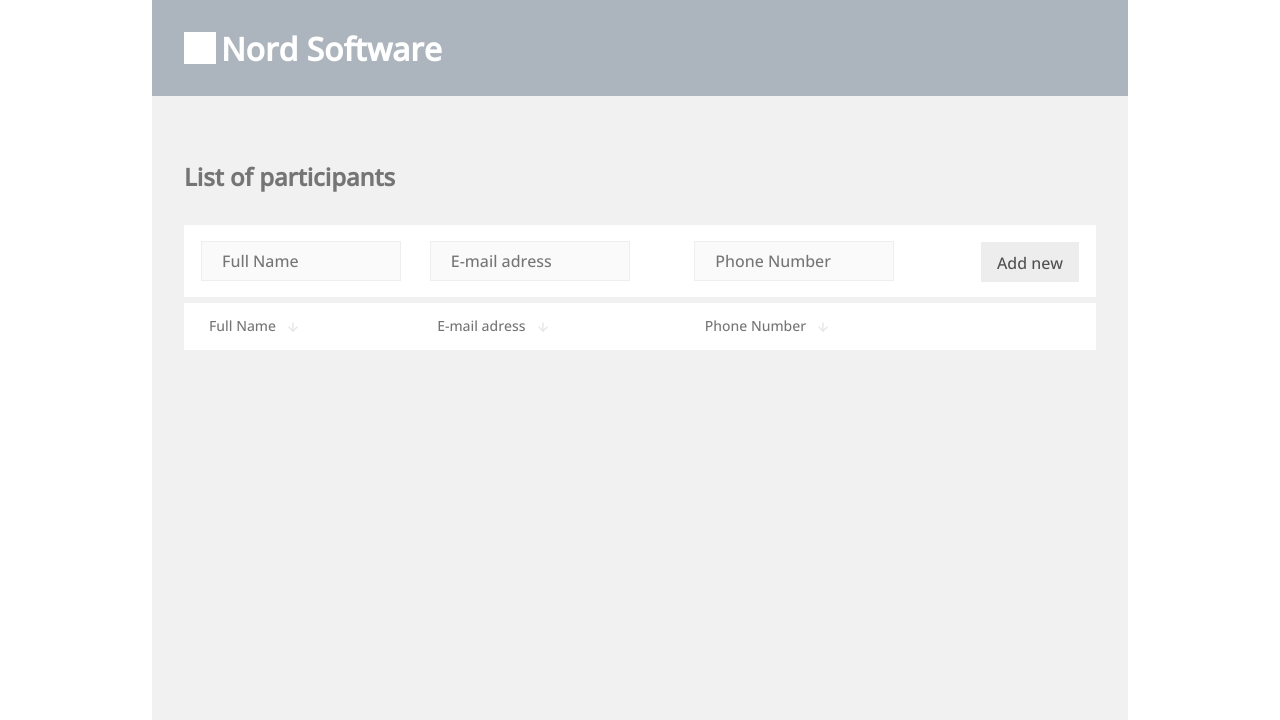
Participant app › can create a new participant
This screenshot has width=1280, height=720.
Step 1. Type "Apple" into the field named "name" → (301, 261), box [201, 241, 401, 281]
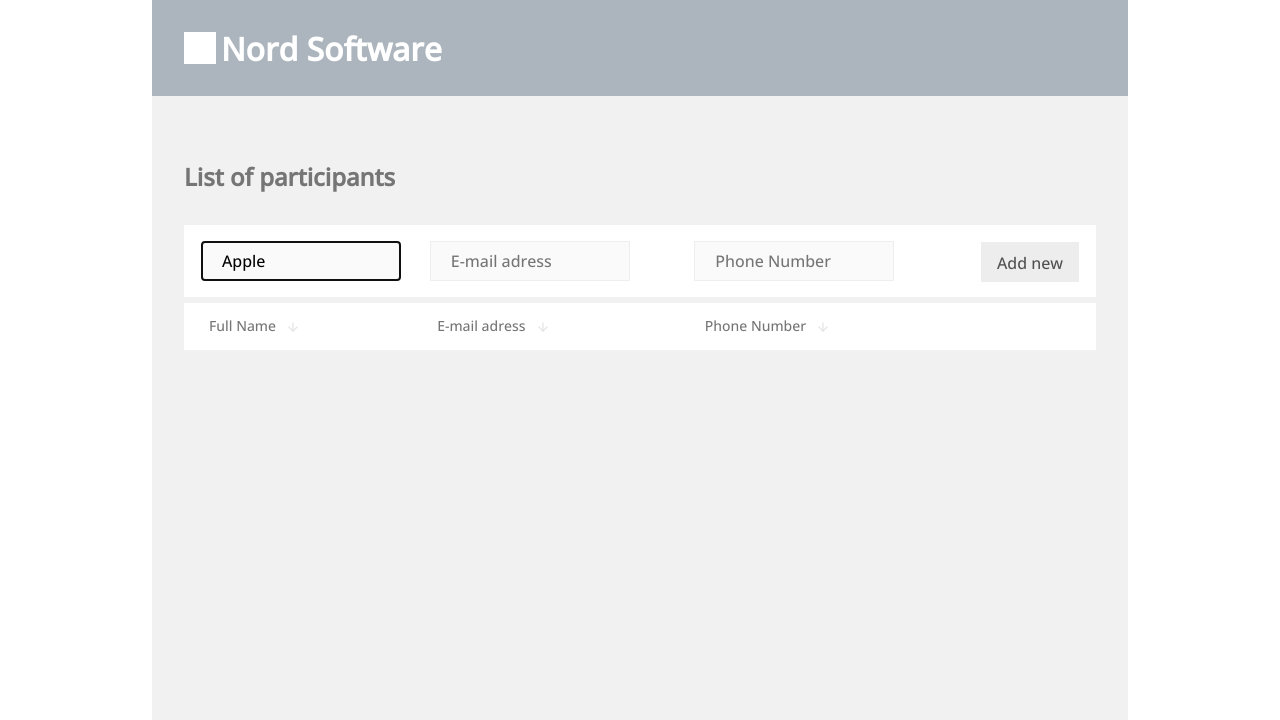
Step 2. Type "Apple@gmail.com" into the field named "email" → (530, 261), box [430, 241, 630, 281]
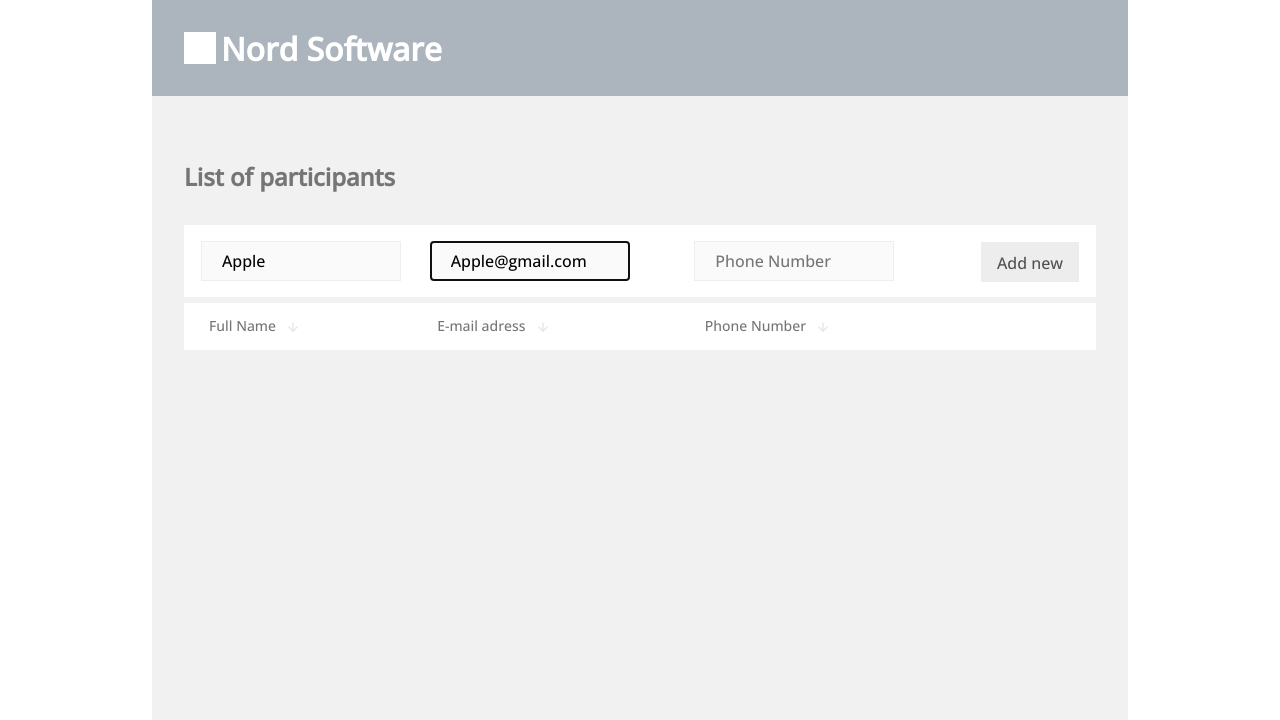
Step 3. Type "012345678" into the field named "phone" → (794, 261), box [694, 241, 894, 281]
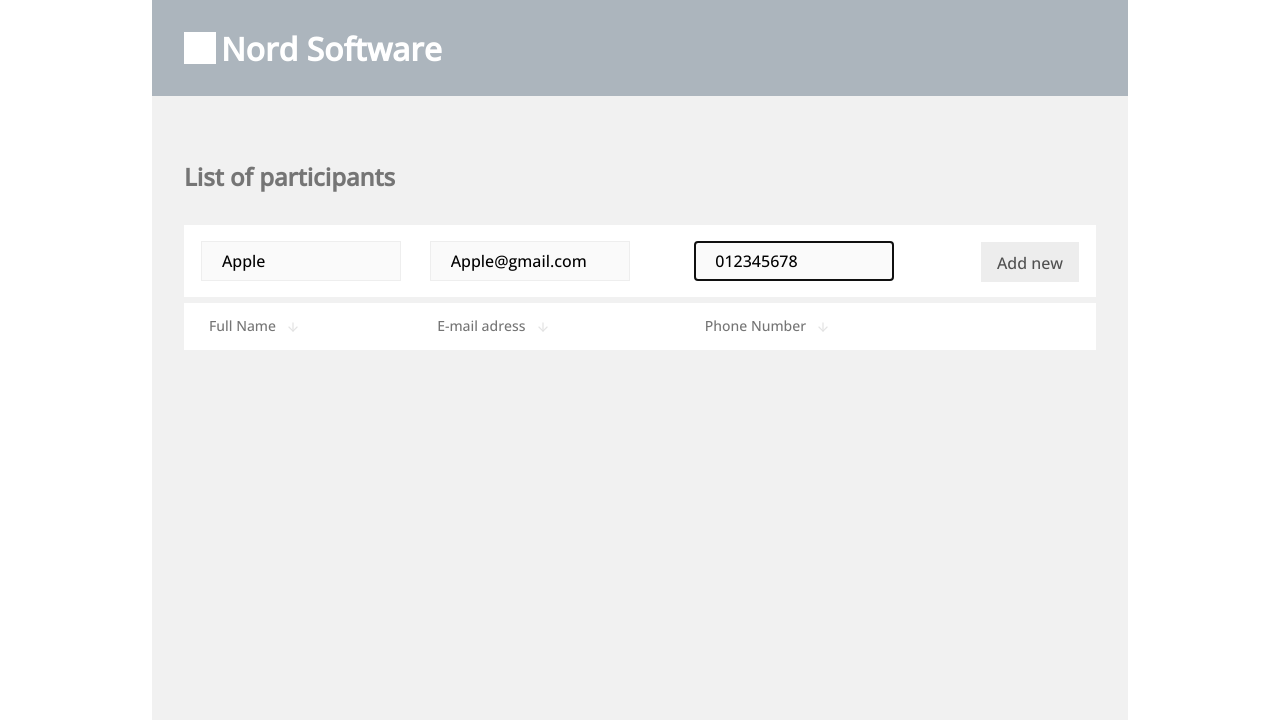
Step 4. Click the button "Add new" → (1030, 262), box [981, 242, 1079, 282]
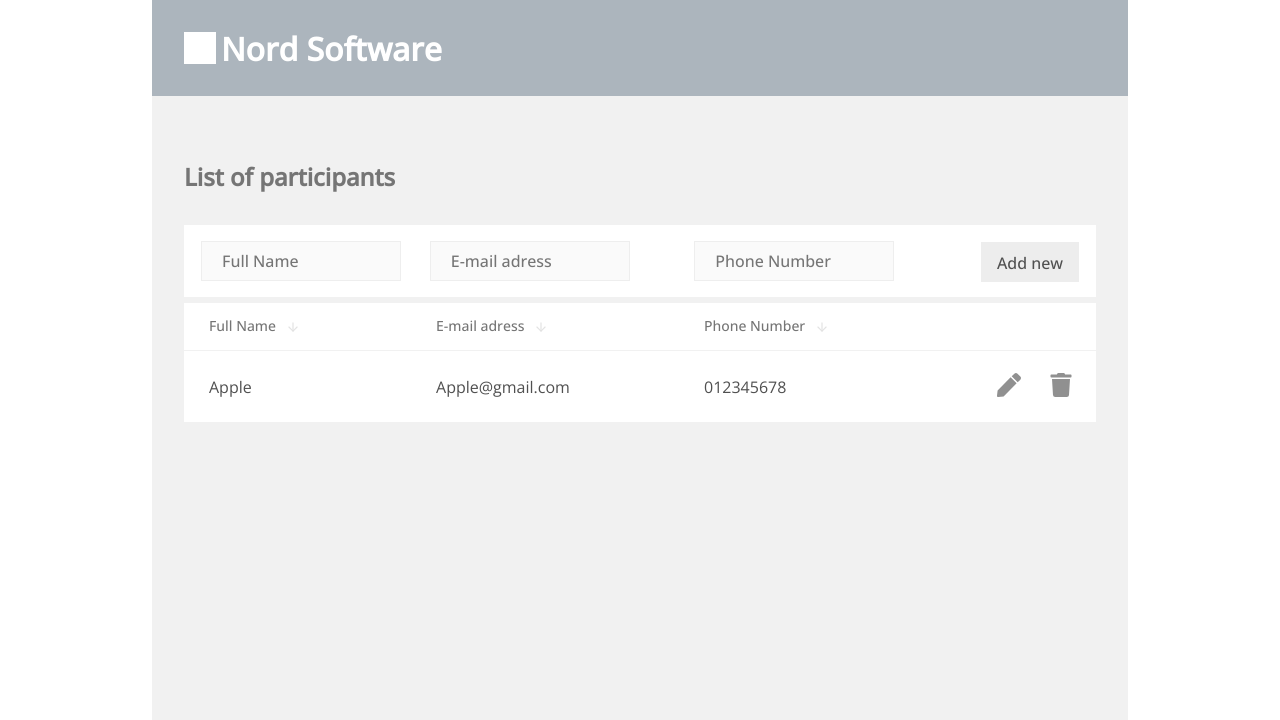
Expected: the text "Apple" is shown, [209, 376, 252, 398]
Expected: the text "Apple@gmail.com" is shown, [436, 376, 570, 398]
Expected: the text "012345678" is shown, [704, 376, 786, 398]
